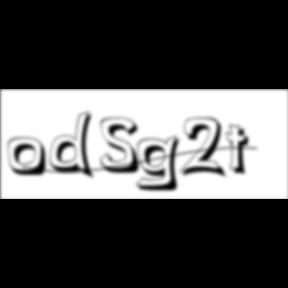2: (180, 117, 230, 181)
S: (101, 117, 147, 176)
d: (50, 110, 100, 182)
g: (136, 134, 188, 194)
o: (8, 137, 50, 179)
t: (226, 124, 256, 179)
